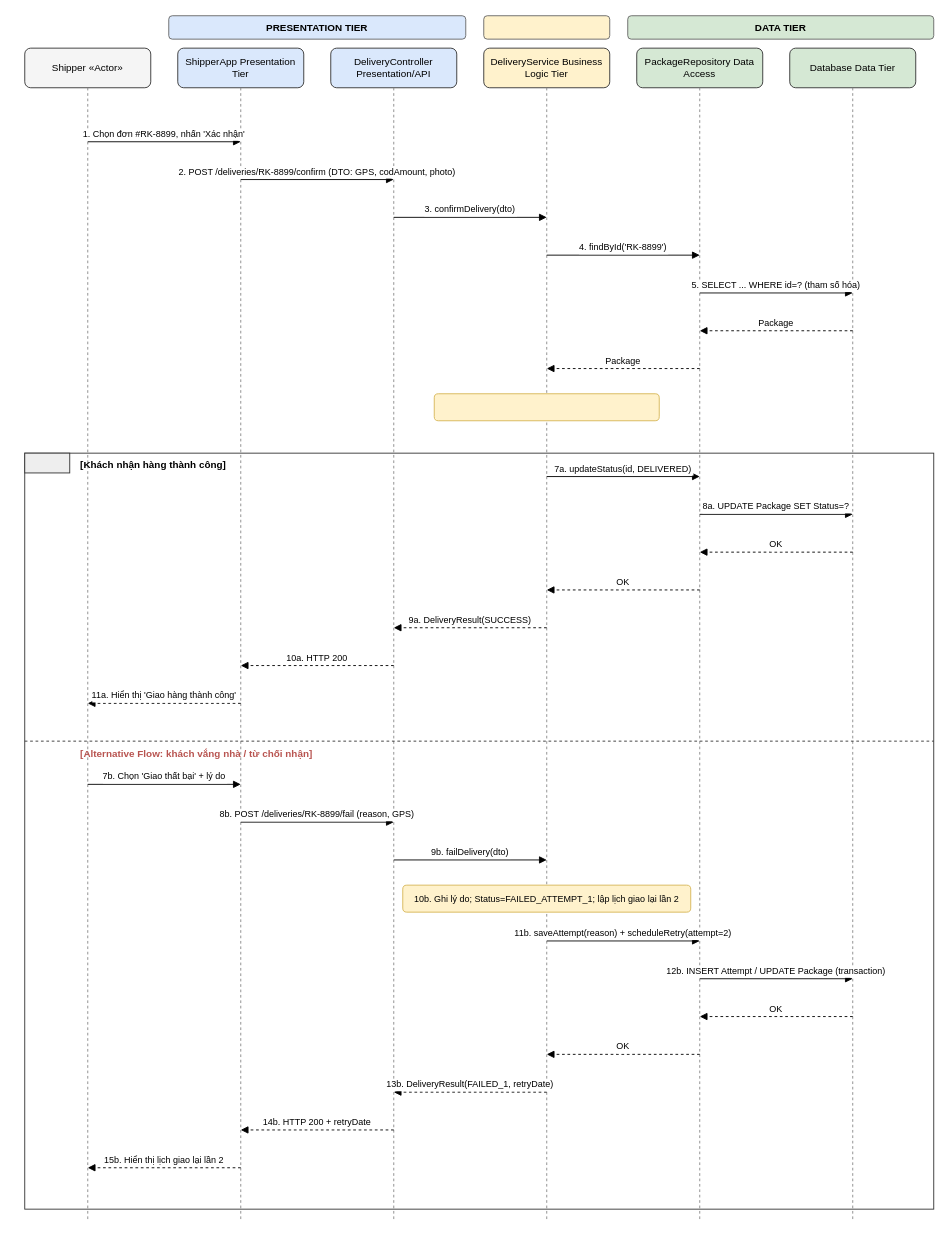
The diagram is 950 pixels wide and 1254 high, and some of its shapes have lost their labels. Each missing label, with the centre of its shape:
6. Kiểm tra GPS ≤ 100 m; codAmount = COD; có ảnh: the point at 546,407
alt: the point at 47,462
BUSINESS LOGIC TIER: the point at 546,27
